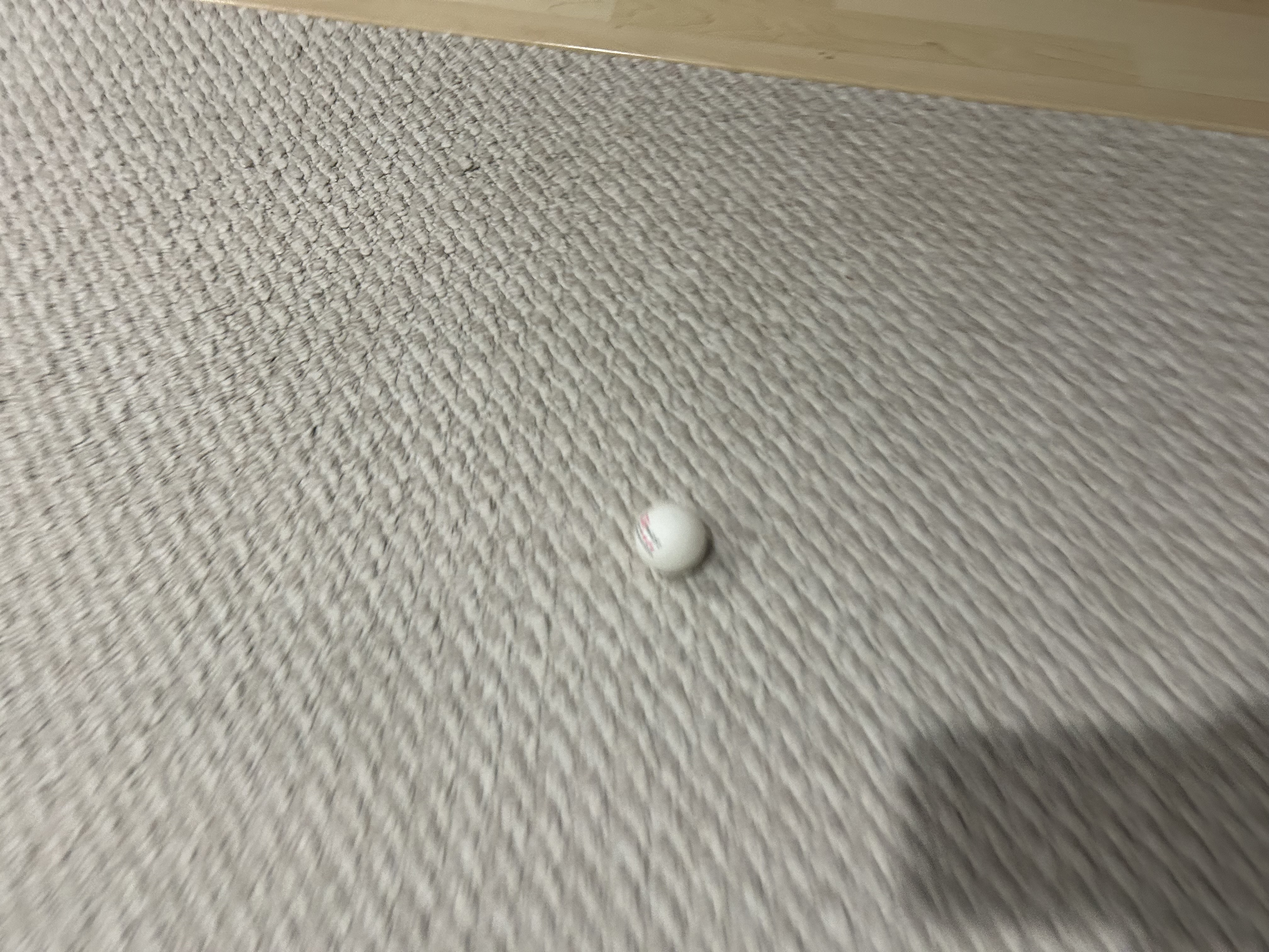Ball: (618, 498, 714, 581)
